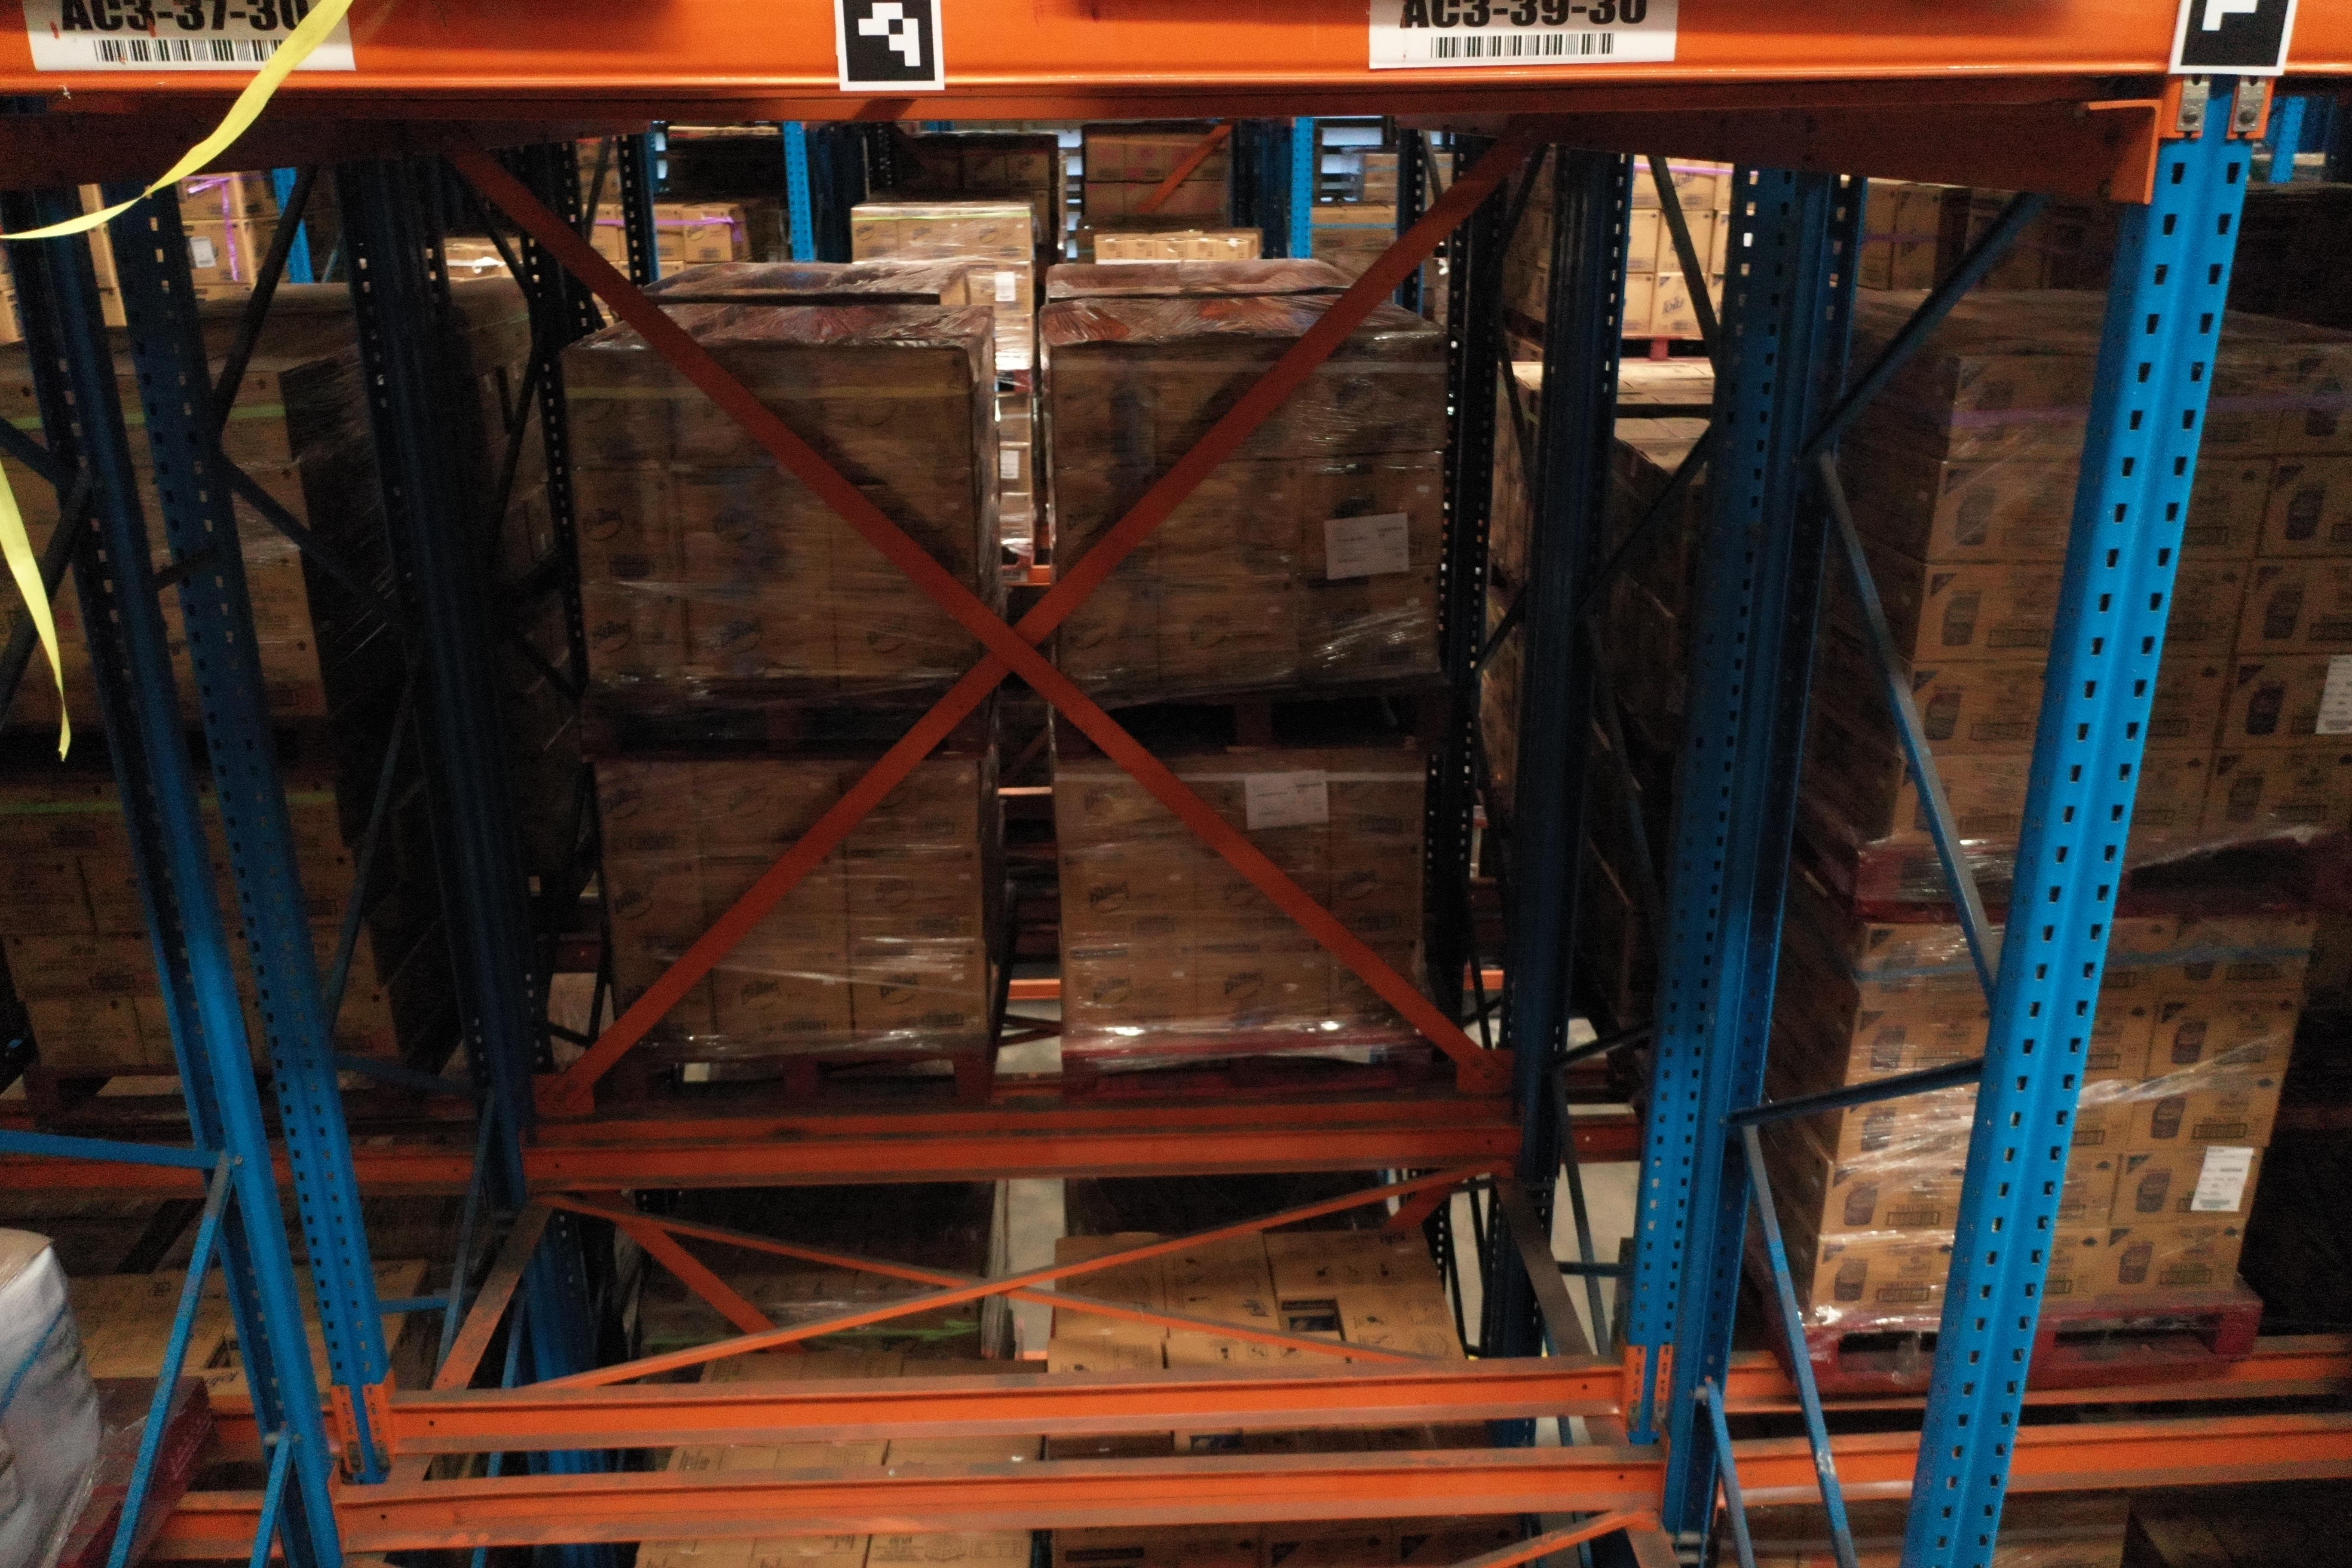2: (665, 346, 829, 476), (1155, 334, 1307, 467), (821, 348, 973, 474), (1304, 331, 1445, 460), (828, 472, 978, 593), (679, 476, 833, 591), (1157, 460, 1304, 579), (1302, 451, 1442, 574), (1295, 565, 1440, 677), (1158, 574, 1300, 686), (703, 854, 845, 962), (686, 590, 842, 686), (843, 843, 980, 952), (696, 759, 845, 857), (709, 952, 854, 1052), (1192, 843, 1330, 945), (1057, 850, 1192, 954), (1052, 341, 1158, 469), (849, 945, 987, 1041), (563, 352, 672, 474), (835, 590, 980, 681), (1192, 752, 1328, 849), (572, 472, 686, 588), (843, 758, 980, 854), (1062, 947, 1197, 1039), (1053, 761, 1193, 850), (1055, 465, 1157, 588), (1193, 941, 1330, 1029), (1055, 583, 1162, 688), (2, 934, 163, 1003), (597, 761, 702, 864), (605, 861, 709, 966), (586, 588, 691, 688), (0, 784, 131, 863), (612, 959, 717, 1055), (1330, 840, 1423, 945), (26, 996, 149, 1074), (1328, 936, 1421, 1034), (1330, 749, 1423, 843), (0, 857, 96, 940)
box: (1949, 355, 2100, 462), (1927, 462, 2081, 563), (1914, 563, 2063, 665), (1897, 660, 2049, 758), (2196, 745, 2352, 840), (2144, 992, 2301, 1083), (1808, 1230, 1960, 1323), (1888, 754, 2033, 850), (2159, 910, 2319, 997), (2089, 1221, 2245, 1311), (2214, 654, 2352, 754), (1843, 1004, 1993, 1092), (1855, 922, 2005, 1008), (2107, 1150, 2264, 1230), (2128, 1074, 2282, 1155), (2233, 558, 2352, 658), (2198, 345, 2294, 458), (1820, 1160, 1965, 1235), (1832, 1090, 1979, 1164), (2252, 457, 2352, 562), (2180, 458, 2273, 563), (2159, 560, 2250, 660), (2273, 343, 2352, 457), (2128, 749, 2212, 847), (2144, 660, 2231, 752), (2082, 999, 2158, 1087), (2098, 919, 2173, 999), (2040, 1227, 2107, 1314), (2070, 1080, 2140, 1160), (2056, 1157, 2123, 1234)
